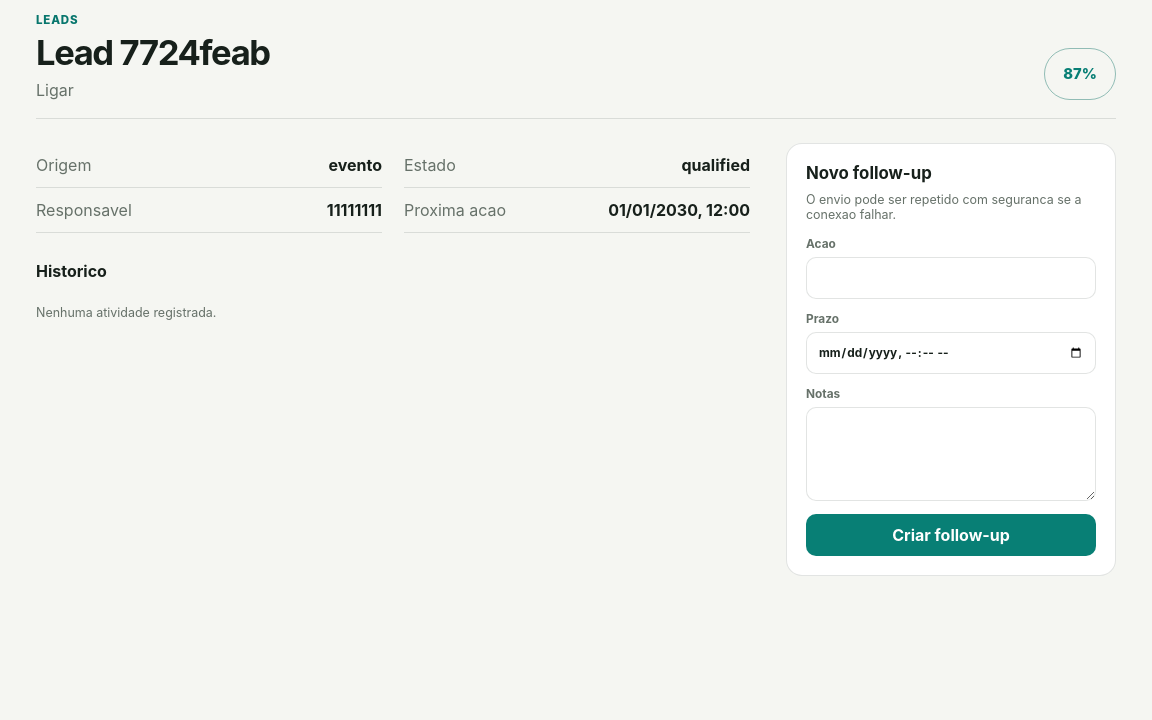
Test: CommercialWorkspace › preserves follow-up fields and idempotency key across retry, then appends timeline
Expected: the heading "Lead 7724feab" is shown, x1=36 y1=32 x2=270 y2=73
In the field labelled "Acao": {"x": 951, "y": 278} x1=806 y1=257 x2=1096 y2=299, type "Enviar proposta"
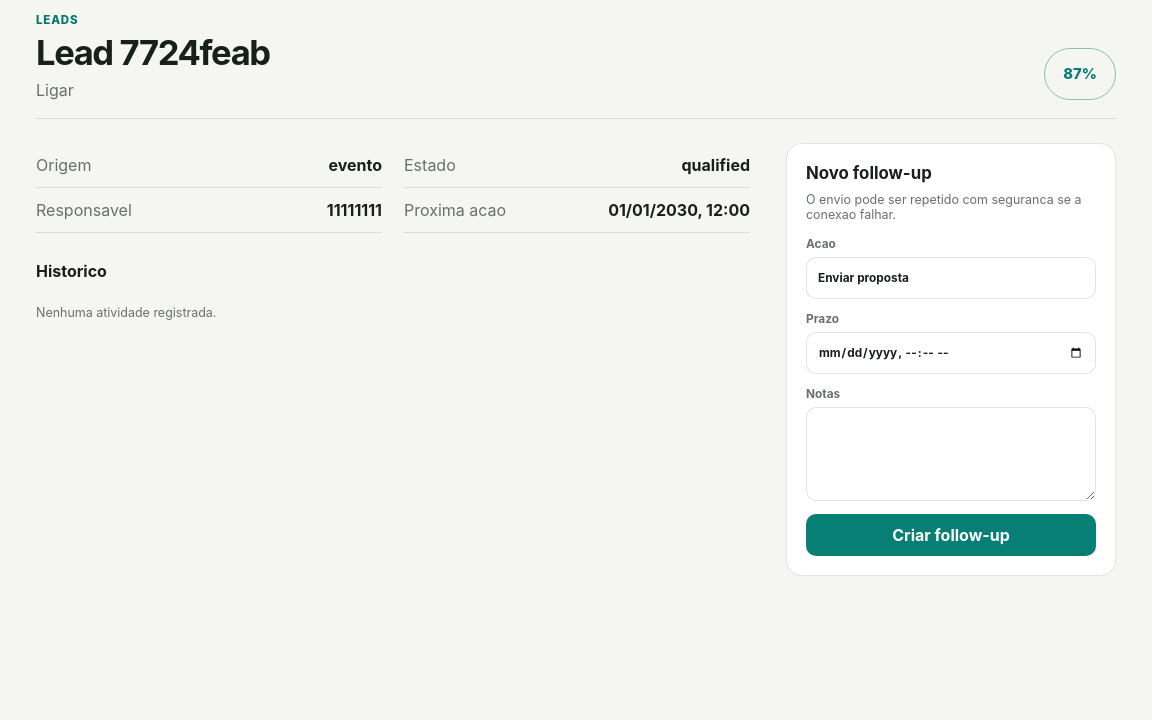
In the field labelled "Prazo": {"x": 951, "y": 353} x1=806 y1=332 x2=1096 y2=374, type "2030-02-01T12:00"
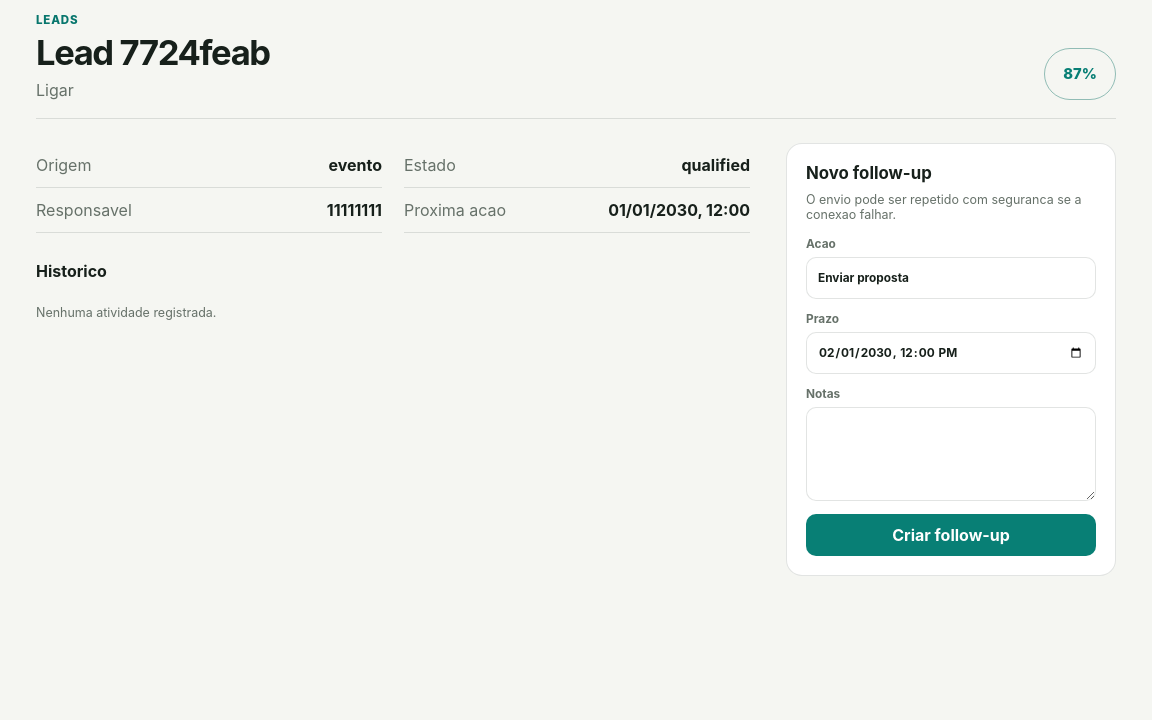
Submit the form named "Criar follow-up", box x1=786 y1=143 x2=1116 y2=576
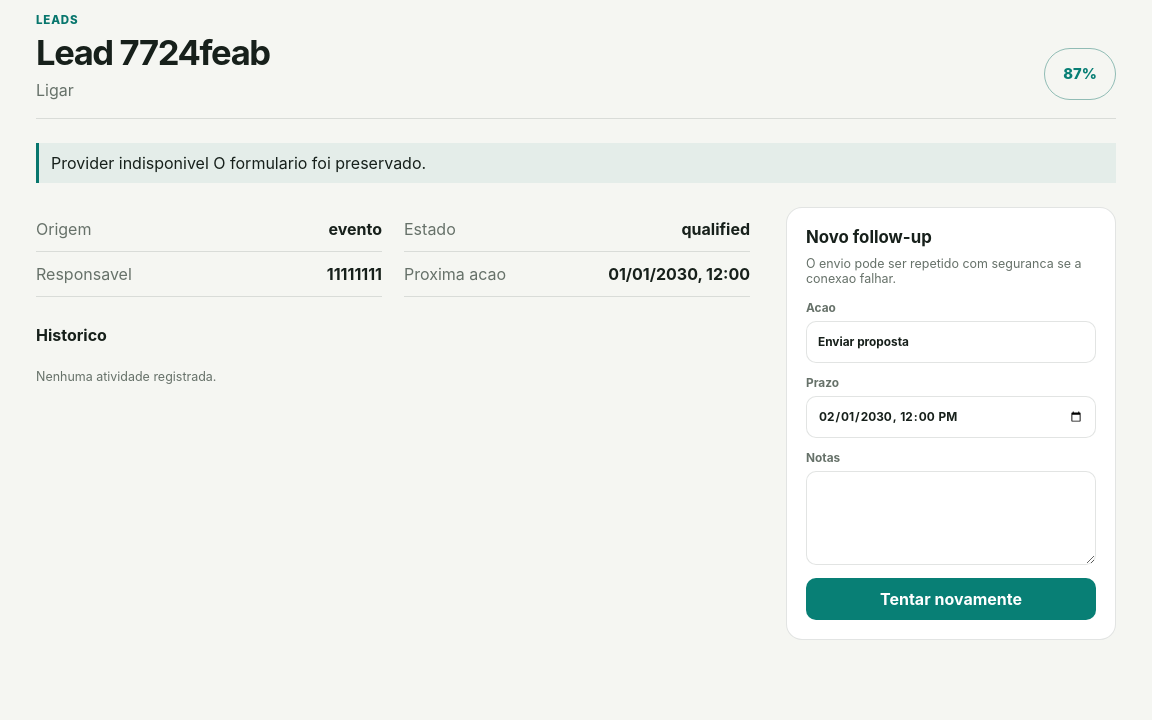
Result: the button "Tentar novamente" is shown
Click the button "Tentar novamente": {"x": 951, "y": 599} x1=806 y1=578 x2=1096 y2=620
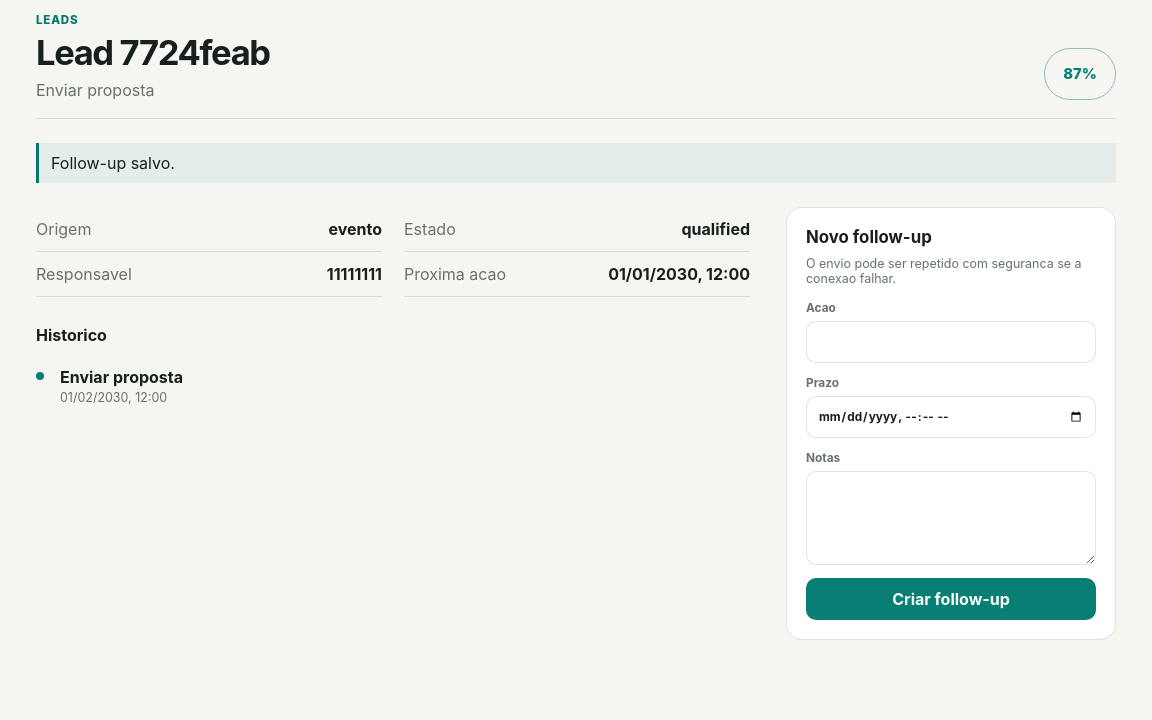
Result: the text "Follow-up salvo." is shown at x1=36 y1=143 x2=1116 y2=183
Result: the text "Enviar proposta" is shown 2 times at x1=36 y1=80 x2=154 y2=100; x1=60 y1=367 x2=183 y2=387
